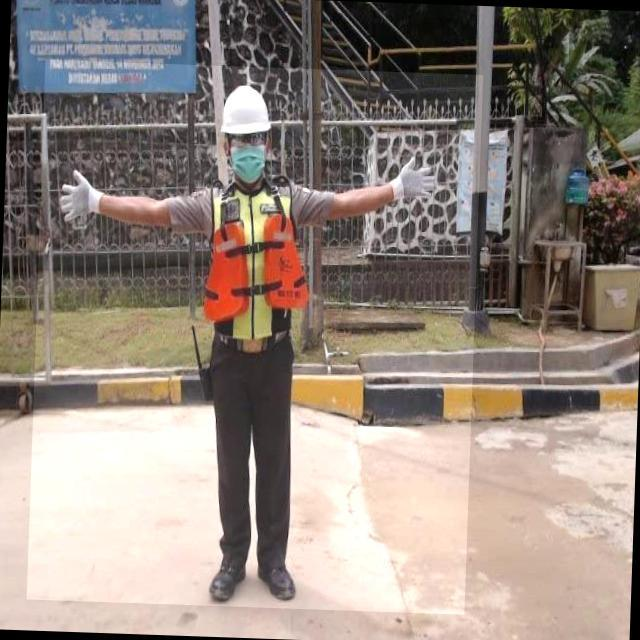Helmet: (220, 84, 272, 145)
Human: (27, 59, 484, 614)
Safety Boot: (206, 550, 251, 605), (256, 558, 299, 603)
Safety Vest: (201, 179, 312, 346)
